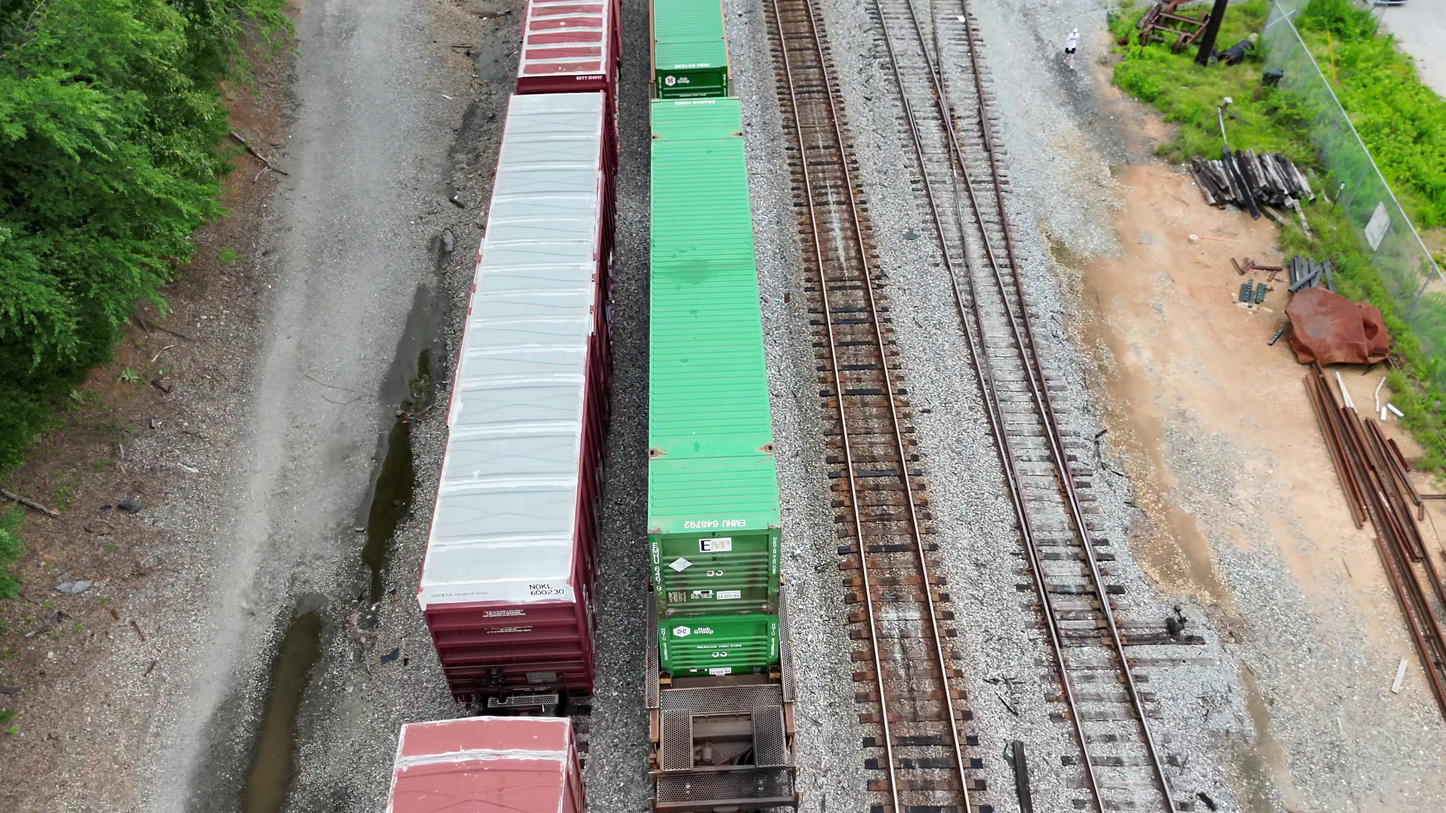human: (1062, 27, 1080, 72)
